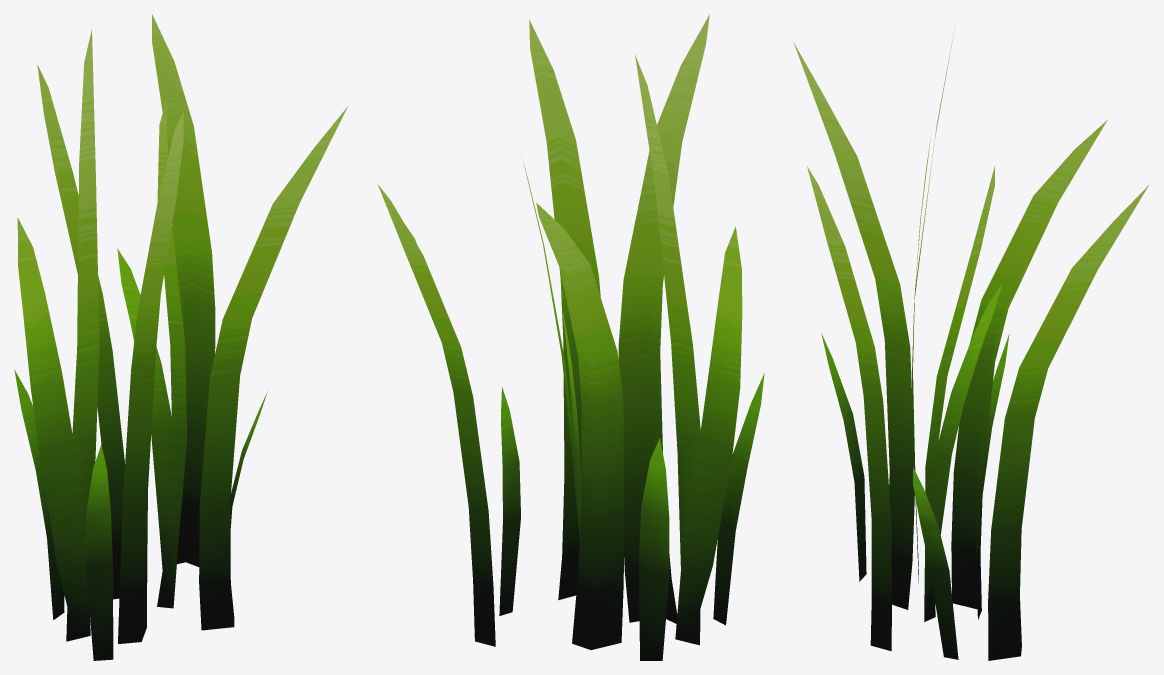
The model's file is Grass_Common_Short.glb.
The picture shows the model from 3 angles, left to right: view 1: azimuth 30°, elevation 25°; view 2: azimuth 150°, elevation 25°; view 3: azimuth 270°, elevation 25°; orthographic projection. The views are drawn at different scales.
Parts seen in each view (by area): view 1: Grass_Common_Short; view 2: Grass_Common_Short; view 3: Grass_Common_Short.
Part boxes in pixels (bbox=[...]): Grass_Common_Short: bbox=[14, 14, 347, 660]; Grass_Common_Short: bbox=[377, 14, 764, 660]; Grass_Common_Short: bbox=[793, 27, 1149, 660].
Bounding box in the file's own units: 0.6388 × 1.33 × 0.7373.
Materials: 1 (1 with a texture image).
